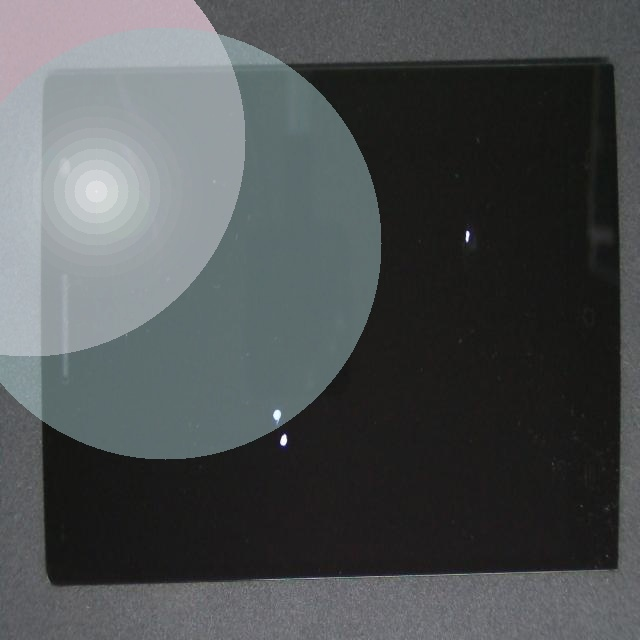stain: (201, 124, 640, 389), (155, 167, 407, 588)
